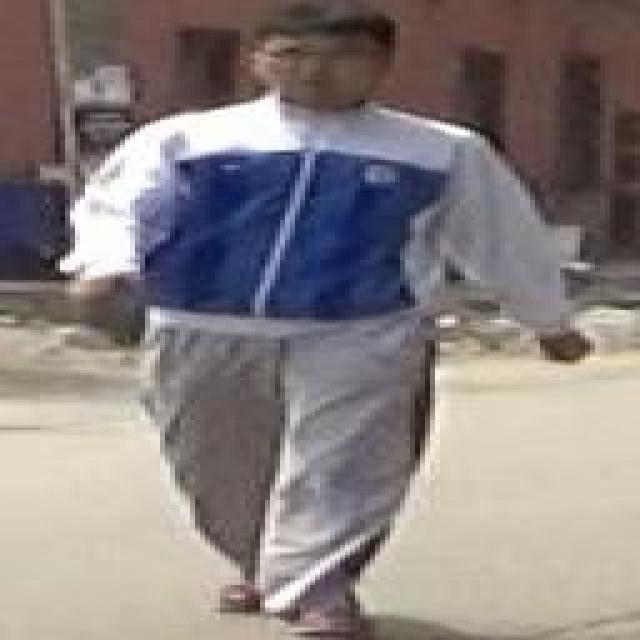adult: (59, 3, 592, 640)
